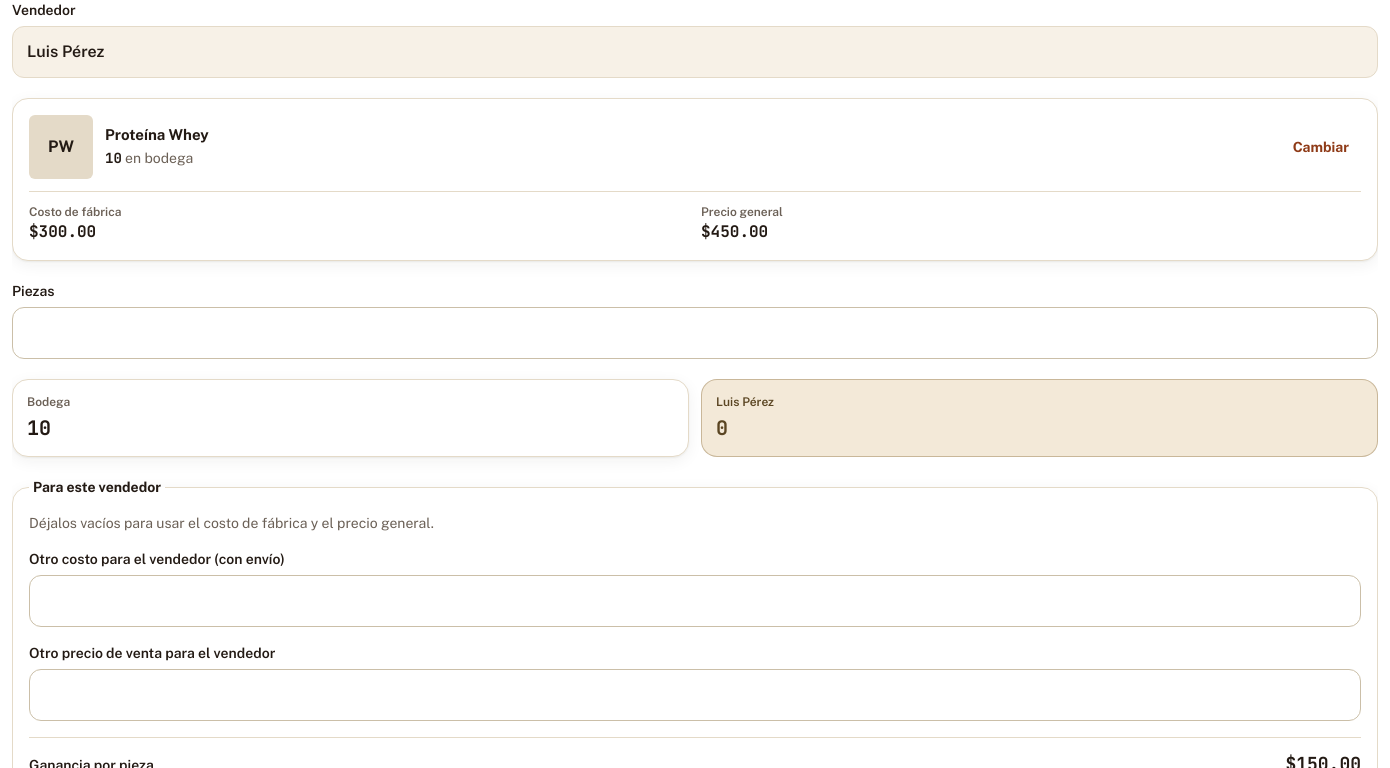
Test: DeliveryFormComponent › calcula la ganancia por pieza con los generales y con los propios
Type "520" into the field with id "unit-price" at (695, 695), box [29,669,1361,721]
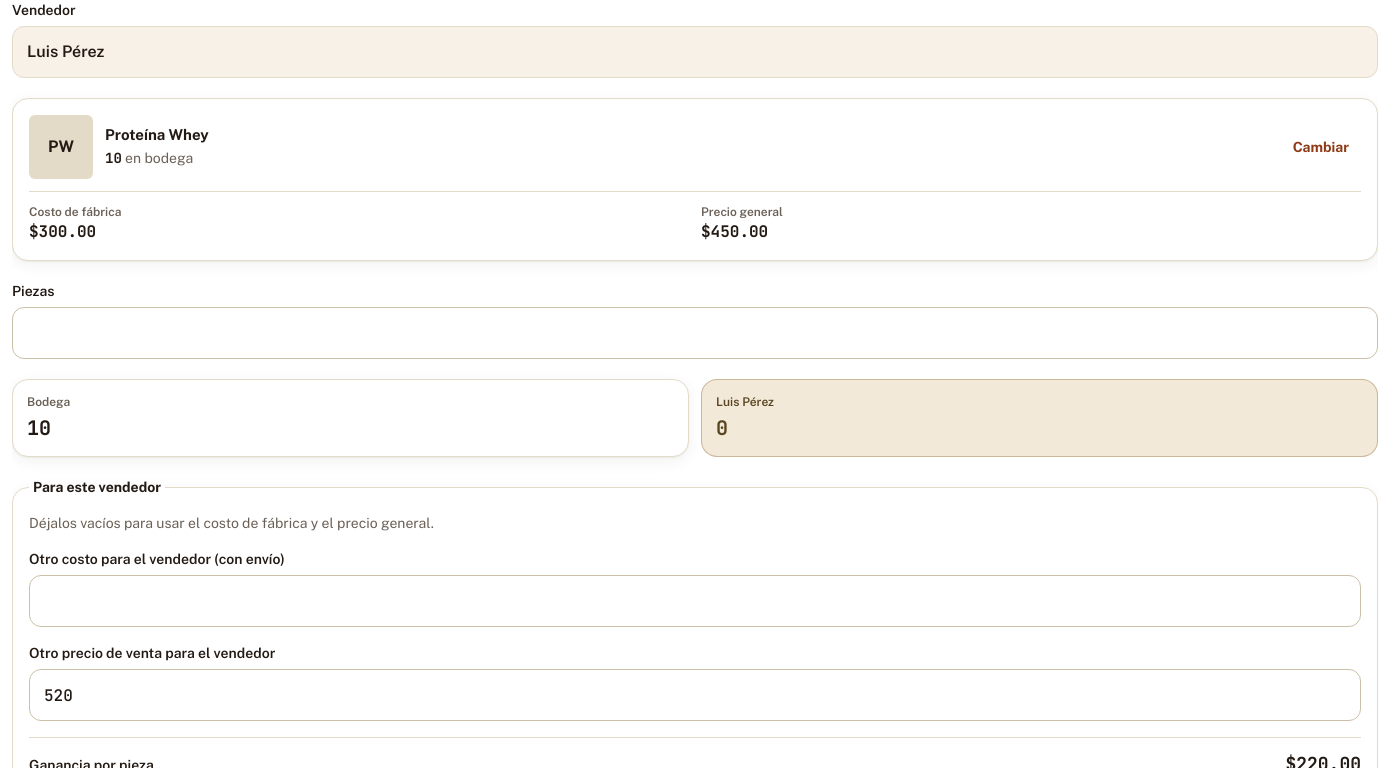
Type "310.5" into the field with id "unit-cost" at (695, 601), box [29,575,1361,627]
(page scrolled)
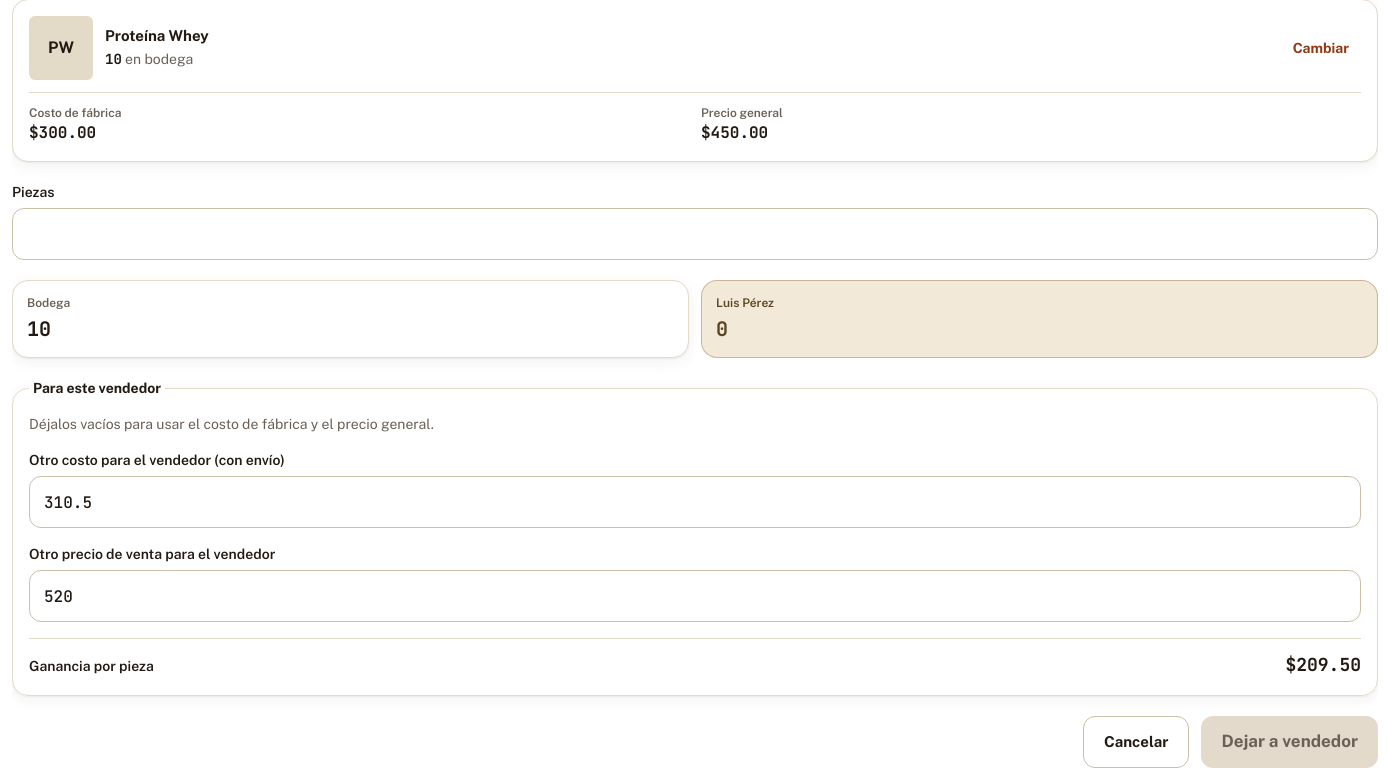
Expected: the text "$209.50" is shown, [1285,651,1361,679]
